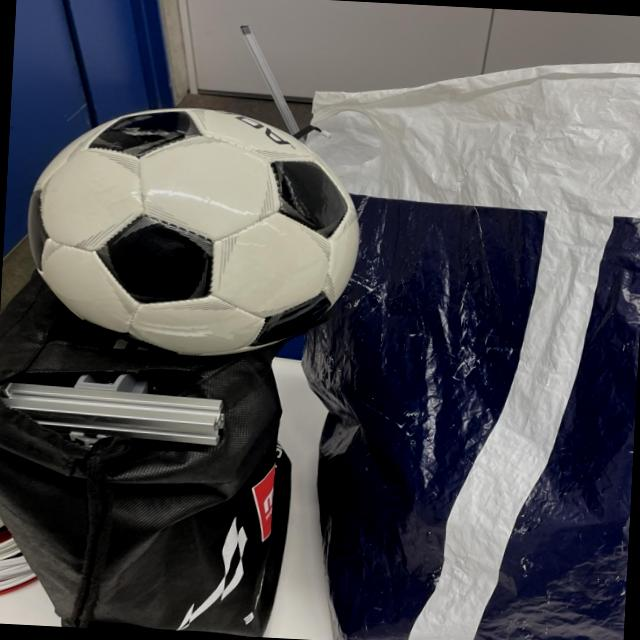Soccer Ball: (22, 101, 364, 365)
